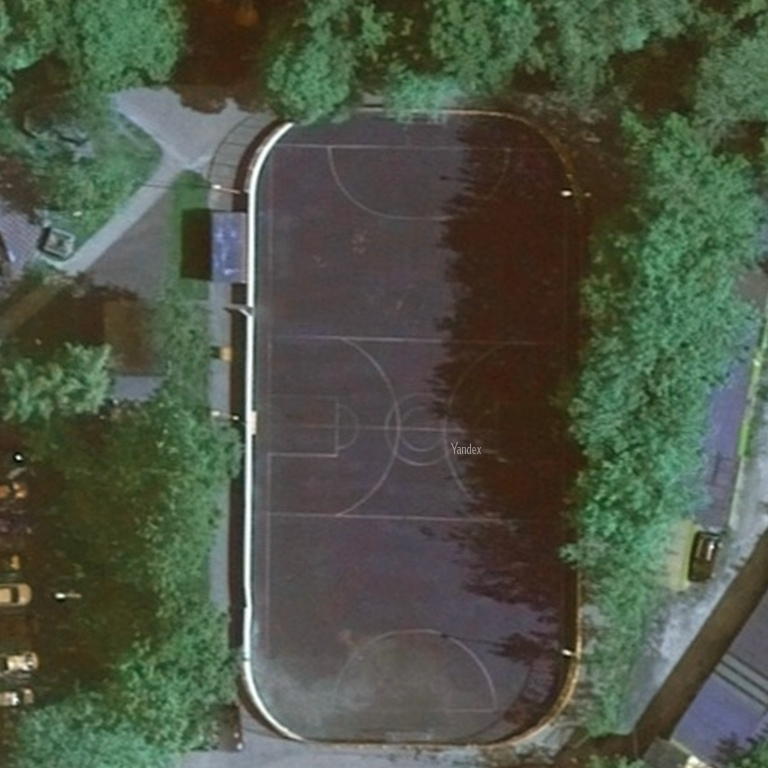basket_court: (234, 331, 602, 532)
